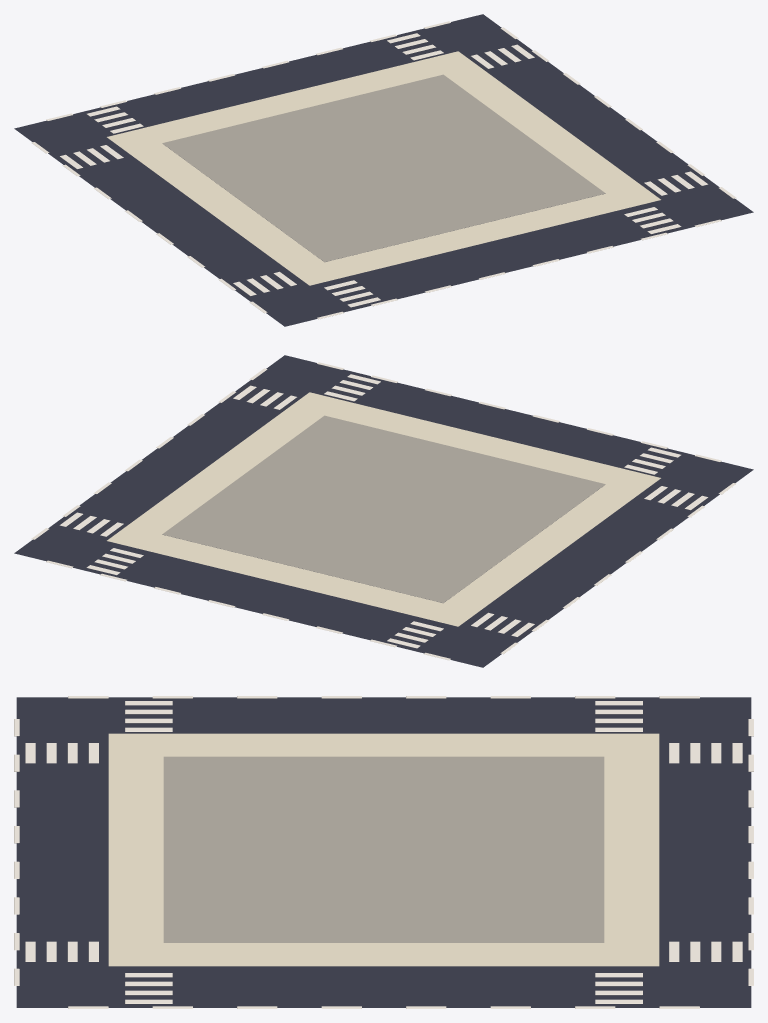
Rendered from tile_lot.glb.
3 views of the same model, one above another, from view 1: azimuth 30°, elevation 25°; view 2: azimuth 150°, elevation 25°; view 3: azimuth 270°, elevation 25° (orthographic). The views are drawn at different scales.
Visible parts, largest first — view 1: tile_lot; view 2: tile_lot; view 3: tile_lot.
Part boxes in pixels (bbox=[...]): tile_lot: bbox=[14, 14, 753, 326]; tile_lot: bbox=[14, 355, 753, 667]; tile_lot: bbox=[14, 696, 753, 1008].
Size of the model in its own units: 40.3 by 0.1722 by 40.3.
Materials: 1 (1 with a texture image).
